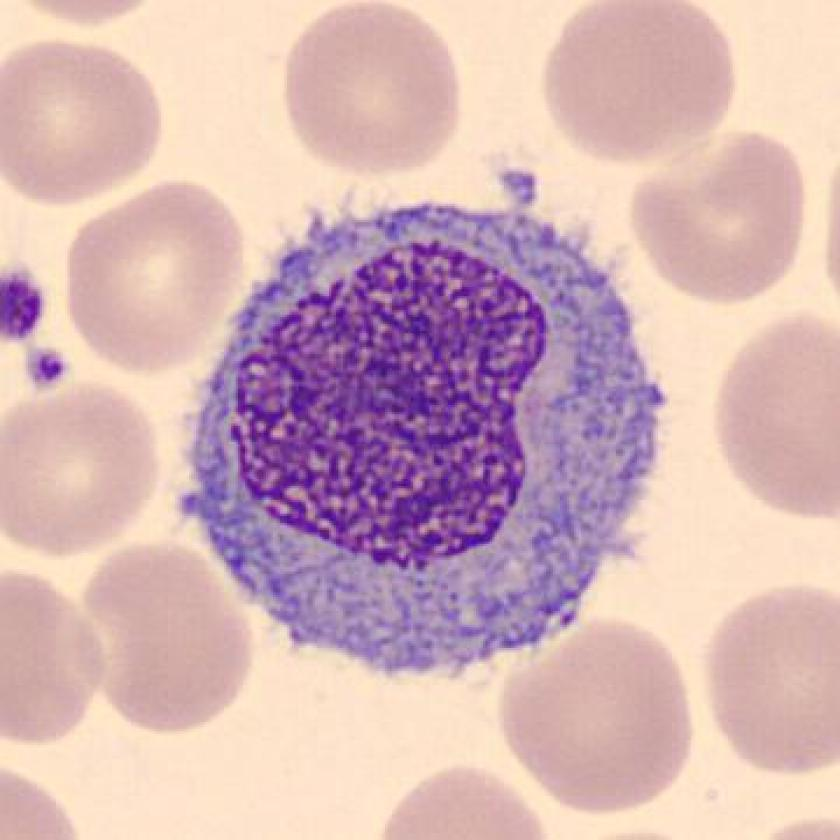monocyte: (171, 156, 685, 681)
